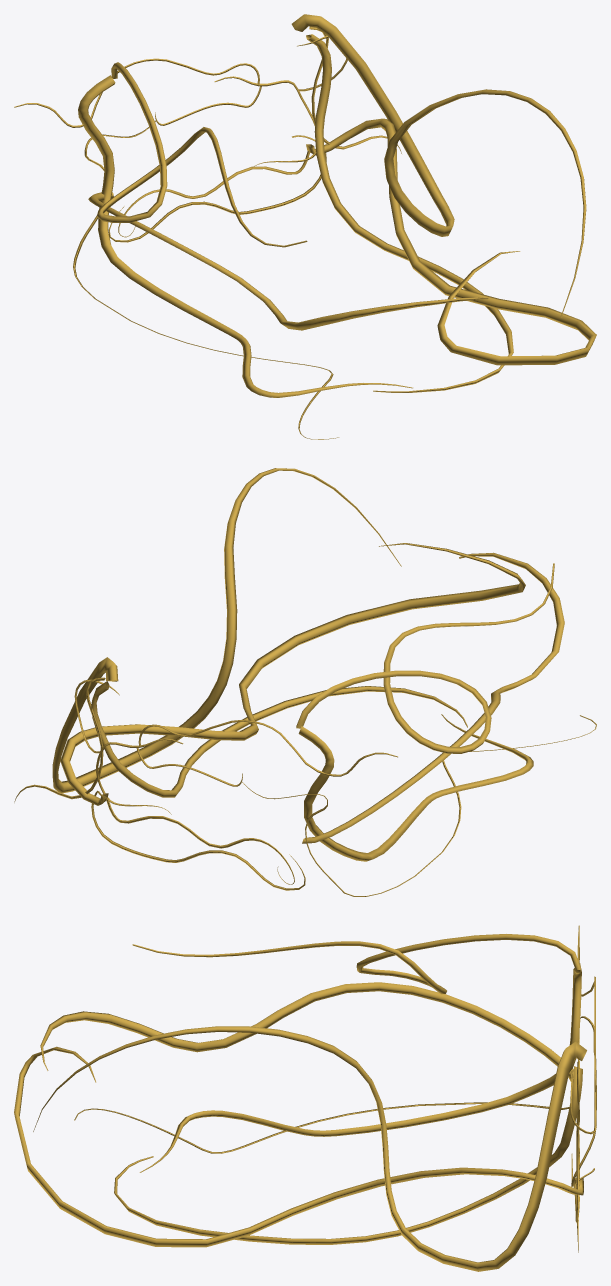
3 renders of one model, top to bottom at view 1: azimuth 30°, elevation 25°; view 2: azimuth 150°, elevation 25°; view 3: azimuth 270°, elevation 25°, orthographic.
Visible parts, largest first — view 1: BezierCurve.009, BezierCurve.014, BezierCurve.007, BezierCurve.010, BezierCurve.008, BezierCurve.015, BezierCurve.005, BezierCurve.011, BezierCurve.012, BezierCurve.003; view 2: BezierCurve.014, BezierCurve.009, BezierCurve.008, BezierCurve.007, BezierCurve.015, BezierCurve.010, BezierCurve.011, BezierCurve.005, BezierCurve.003, BezierCurve.012, BezierCurve.013; view 3: BezierCurve.009, BezierCurve.014, BezierCurve.015, BezierCurve.007, BezierCurve.010, BezierCurve.008, BezierCurve.005, BezierCurve.013.
Part boxes in pixels (x1,y1,x2,y2): BezierCurve.009: (291, 14, 586, 317); BezierCurve.014: (306, 118, 596, 365); BezierCurve.007: (78, 75, 412, 397); BezierCurve.010: (306, 34, 513, 392); BezierCurve.008: (97, 62, 307, 247); BezierCurve.015: (88, 192, 488, 330); BezierCurve.005: (73, 120, 339, 439); BezierCurve.011: (108, 135, 326, 242); BezierCurve.012: (118, 151, 310, 237); BezierCurve.003: (14, 58, 259, 127); BezierCurve.014: (60, 543, 525, 805); BezierCurve.009: (52, 468, 401, 793); BezierCurve.008: (296, 563, 554, 753); BezierCurve.007: (298, 714, 533, 861); BezierCurve.015: (302, 552, 564, 843); BezierCurve.010: (91, 681, 467, 797); BezierCurve.011: (91, 790, 305, 890); BezierCurve.005: (242, 715, 596, 896); BezierCurve.003: (138, 719, 397, 776); BezierCurve.012: (106, 798, 294, 884); BezierCurve.013: (14, 677, 105, 802); BezierCurve.009: (33, 1026, 586, 1271); BezierCurve.014: (14, 1046, 583, 1247); BezierCurve.015: (40, 982, 573, 1081); BezierCurve.007: (139, 963, 581, 1172); BezierCurve.010: (114, 1066, 582, 1244); BezierCurve.008: (132, 934, 581, 994); BezierCurve.005: (74, 1016, 594, 1153); BezierCurve.013: (576, 1061, 579, 1252).
Bounding box in the file's own units: 698 × 389 × 915.
